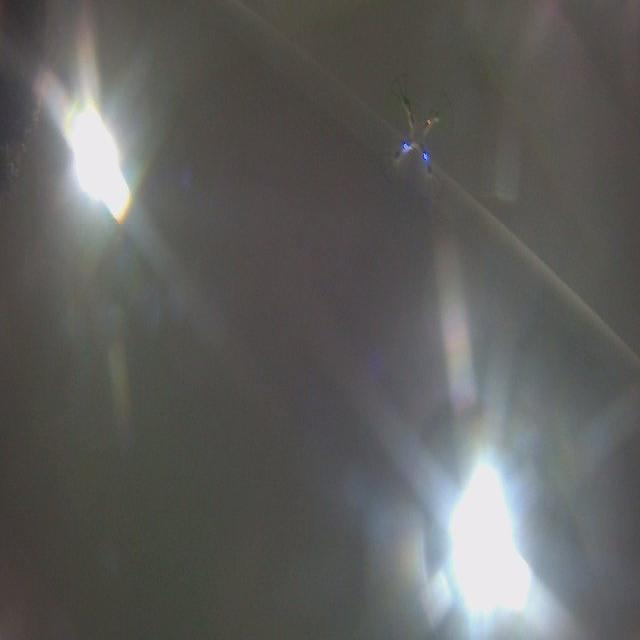drone: (379, 69, 456, 202)
